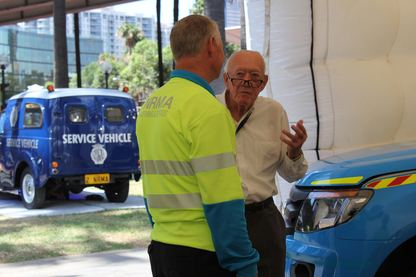ambulance: (0, 82, 142, 210)
